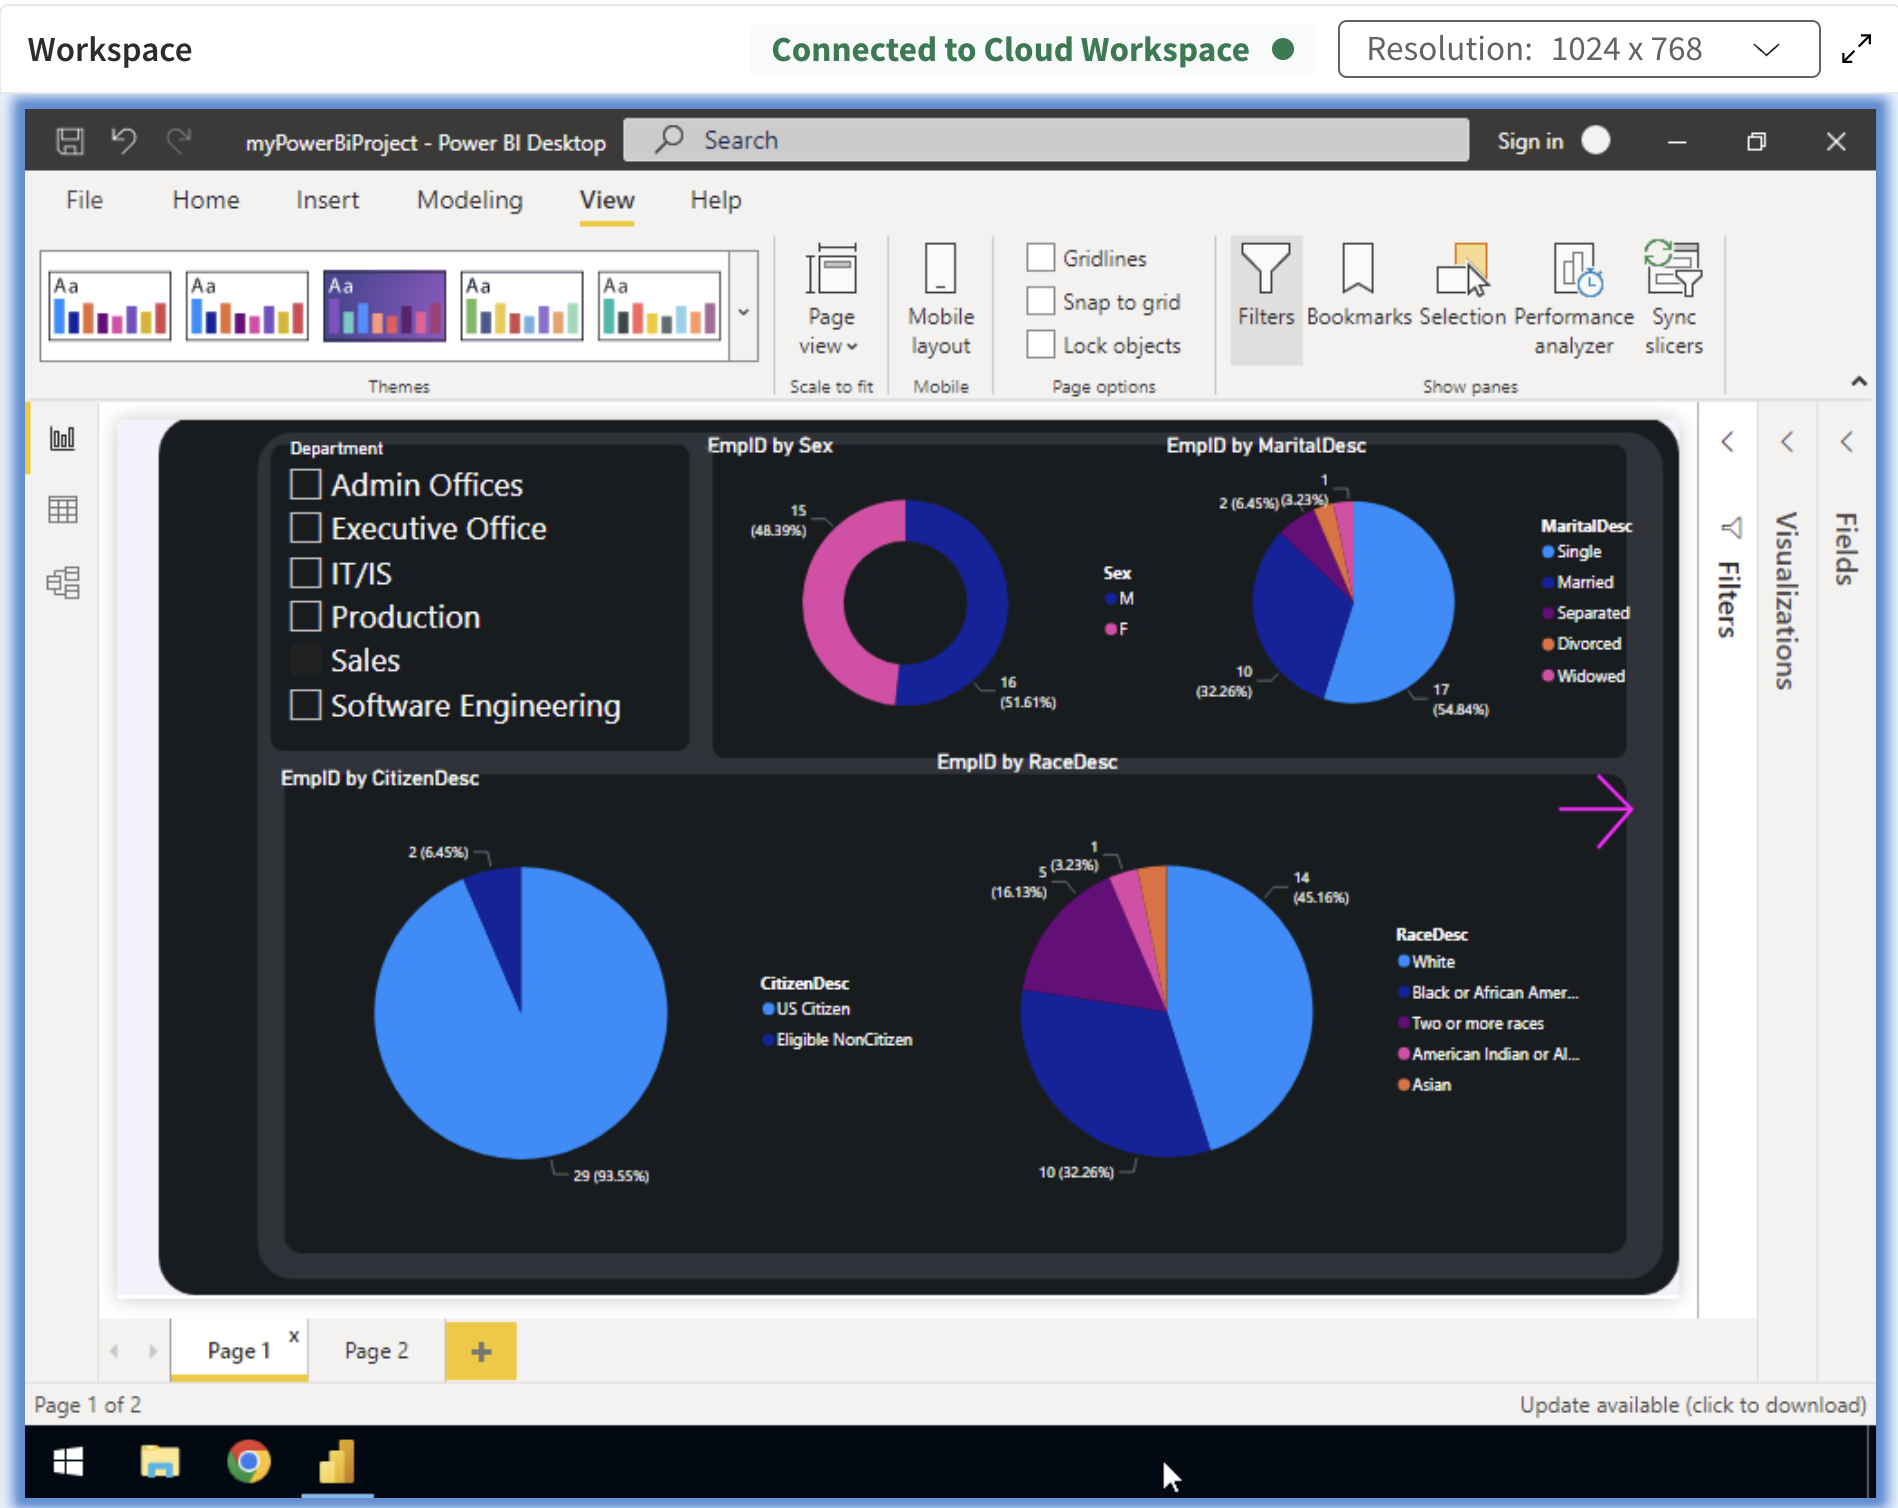

What the dashboard file says about the page in this screenshot:
{"tool":"powerbi","page":{"name":"Page 1","canvas":[1280,720],"ordinal":0},"visuals":[{"type":"donutChart","fields":{"Y":["CountNonNull(HRDataset (2).EmpID)"],"Category":["HRDataset (2).Sex"]},"box":[478,11,378,260],"z":0},{"type":"pieChart","fields":{"Y":["CountNonNull(HRDataset (2).EmpID)"],"Category":["HRDataset (2).MaritalDesc"]},"box":[855.5,10.9,409.3,259],"z":1},{"type":"pieChart","fields":{"Y":["CountNonNull(HRDataset (2).EmpID)"],"Category":["HRDataset (2).MaritalDesc"]},"box":[1578,271,409,260],"z":2},{"type":"pieChart","fields":{"Y":["CountNonNull(HRDataset (2).EmpID)"],"Category":["HRDataset (2).RaceDesc"]},"box":[666.1,269.9,548.6,411.4],"z":3},{"type":"pieChart","fields":{"Y":["CountNonNull(HRDataset (2).EmpID)"],"Category":["HRDataset (2).CitizenDesc"]},"box":[128.4,283,537.7,387.5],"z":4},{"type":"slicer","fields":{"Values":["HRDataset (2).Department"]},"box":[128.4,10.9,376.6,272.1],"z":5},{"type":"actionButton","box":[1173.3,283,106.7,76.2],"z":6}]}

Visuals, with their boxes on the page's 1280x720 design canvas (x1, y1, x2, y2). These are canvas units, not pixel positions in the 1898x1508 screenshot, which may show the page scaled, cropped or inside an application window:
donutChart - CountNonNull(HRDataset (2).EmpID) x HRDataset (2).Sex: <region>478, 11, 856, 271</region>
pieChart - CountNonNull(HRDataset (2).EmpID) x HRDataset (2).MaritalDesc: <region>856, 11, 1265, 270</region>
pieChart - CountNonNull(HRDataset (2).EmpID) x HRDataset (2).MaritalDesc: <region>1578, 271, 1987, 531</region>
pieChart - CountNonNull(HRDataset (2).EmpID) x HRDataset (2).RaceDesc: <region>666, 270, 1215, 681</region>
pieChart - CountNonNull(HRDataset (2).EmpID) x HRDataset (2).CitizenDesc: <region>128, 283, 666, 670</region>
slicer - HRDataset (2).Department: <region>128, 11, 505, 283</region>
actionButton: <region>1173, 283, 1280, 359</region>
